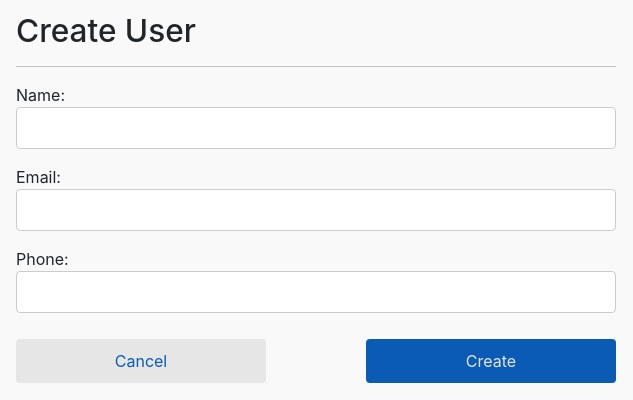
Test: CreateUser component › resets form on reset button click
This screenshot has width=633, height=400.
Type "User Test" into the field labelled "Name:" at (316, 128), box 16,107 -> 616,149
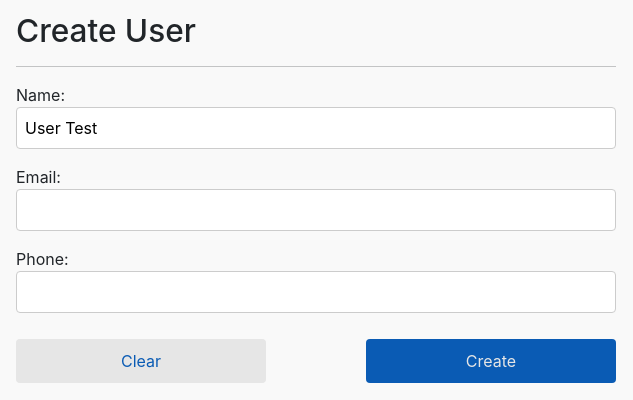
Click the button "Clear" at (141, 361), box 16,339 -> 266,383
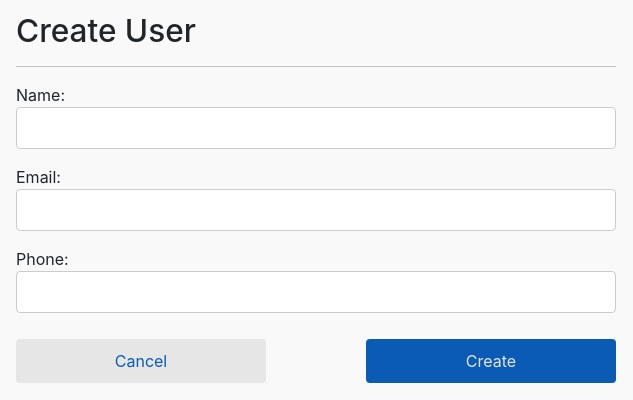
Expected: the field labelled "Name:" is empty, 16,107 -> 616,149
